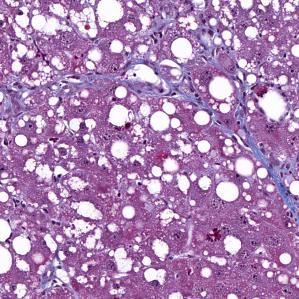fibrosis: (239, 138, 280, 171)
